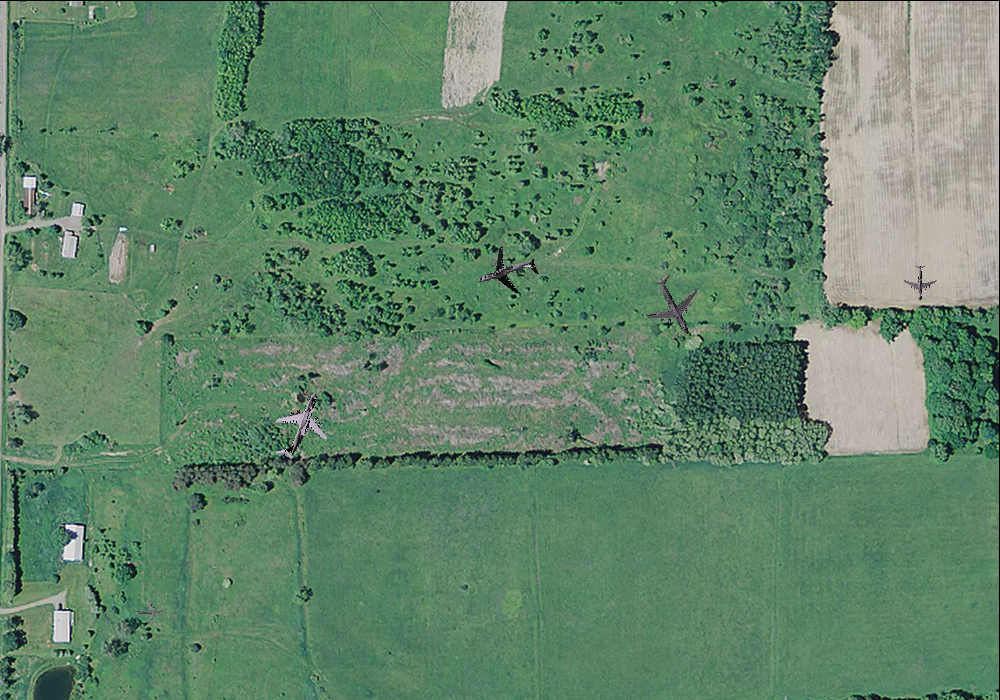plane: (257, 381, 342, 470), (632, 263, 715, 347), (468, 235, 546, 310), (903, 264, 937, 300), (133, 597, 163, 626)
